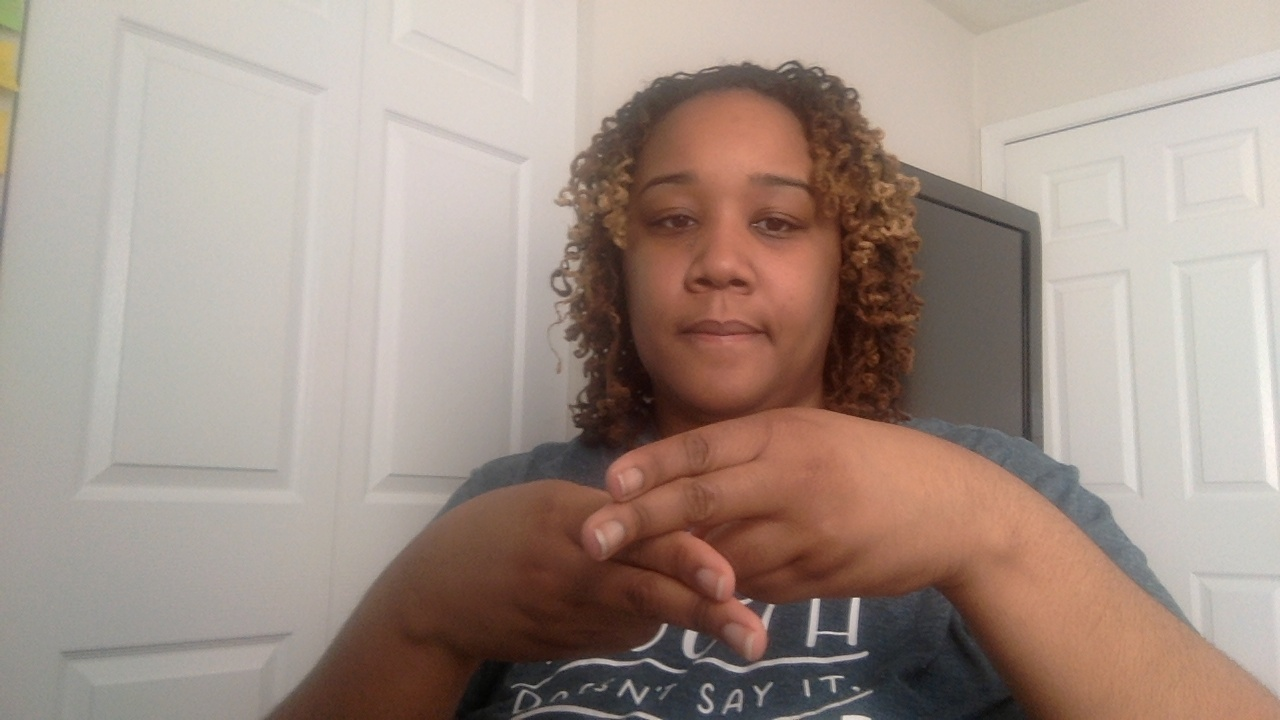name: (407, 404, 1036, 674)
